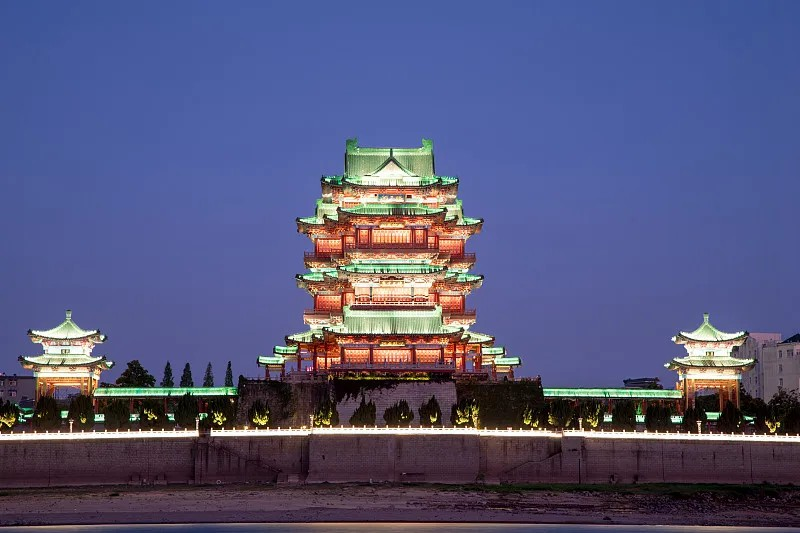Teng: (257, 139, 522, 385)
